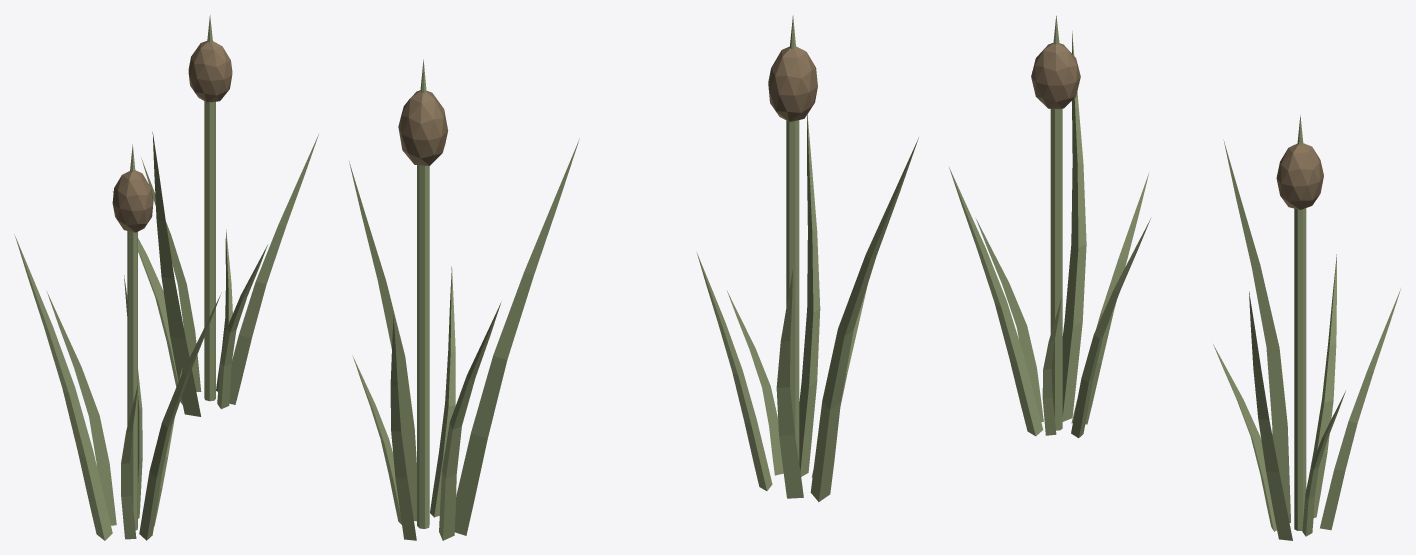
File: free-reeds.glb
The picture shows the model from 3 angles, left to right: view 1: azimuth 30°, elevation 25°; view 2: azimuth 150°, elevation 25°; view 3: azimuth 270°, elevation 25°; orthographic projection. The views are drawn at different scales.
Visible parts, largest first — view 1: Icosphere.001, Icosphere; view 2: Icosphere.001, Icosphere; view 3: Icosphere, Icosphere.001.
Boxes of the visible parts, box(x1,y1,x2,y2) form: Icosphere.001: box(112, 15, 318, 416); Icosphere: box(14, 144, 221, 540); Icosphere.001: box(349, 59, 579, 540); Icosphere: box(696, 15, 918, 501); Icosphere: box(949, 15, 1151, 438); Icosphere.001: box(1213, 115, 1400, 540).
Bounding box in the file's own units: 2.08 × 2 × 1.96.
